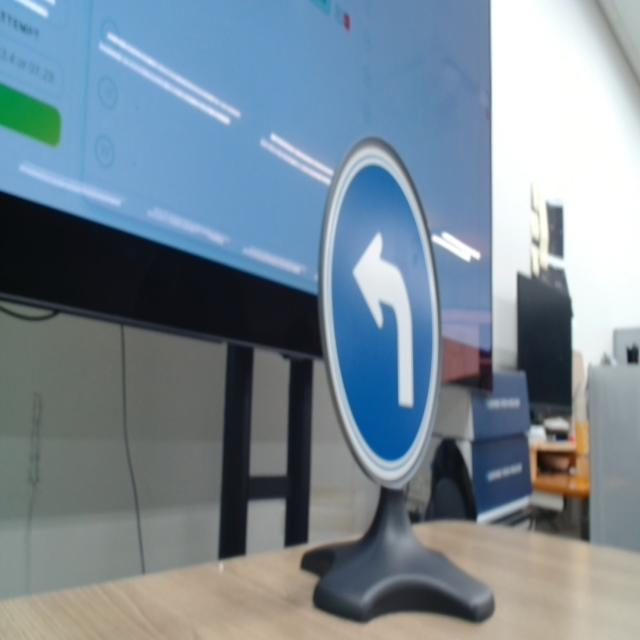left_direction: (317, 128, 443, 489)
